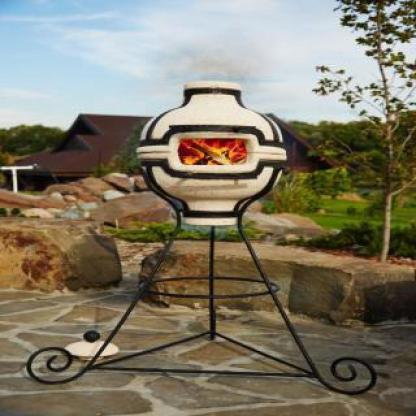fire: (178, 138, 252, 172)
